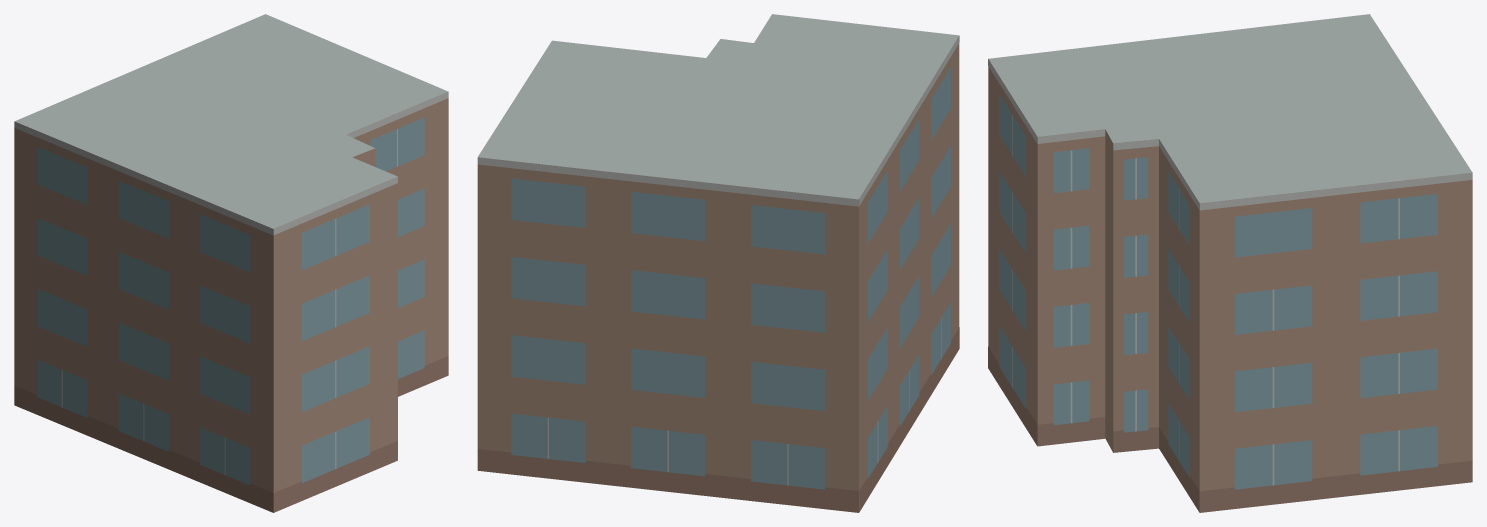
The model's file is survey-upis-32992635.glb.
3 views of the same model, side by side, from view 1: azimuth 30°, elevation 25°; view 2: azimuth 150°, elevation 25°; view 3: azimuth 270°, elevation 25° (orthographic). The views are drawn at different scales.
Visible parts, largest first — view 1: survey-upis-32992635.tmp; view 2: survey-upis-32992635.tmp; view 3: survey-upis-32992635.tmp.
Part boxes in pixels (x1,y1,x2,y2): survey-upis-32992635.tmp: (14,14,448,512); survey-upis-32992635.tmp: (477,14,959,512); survey-upis-32992635.tmp: (988,14,1472,512).
Bounding box in the file's own units: 13.99 × 10.65 × 15.12.
